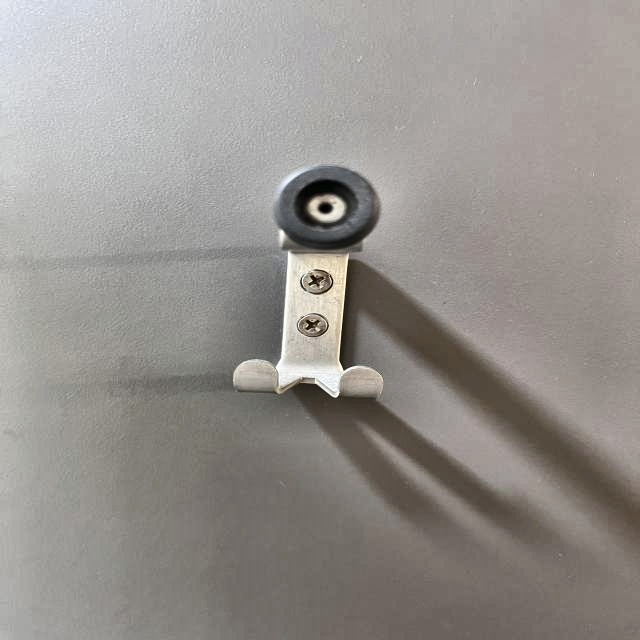phillips: (301, 269, 334, 295), (297, 313, 330, 337)
